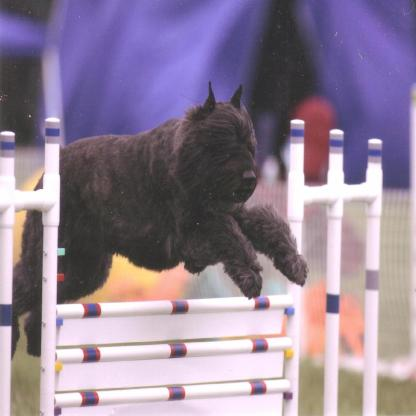Bouvier_des_Flandres: (10, 82, 309, 360)
